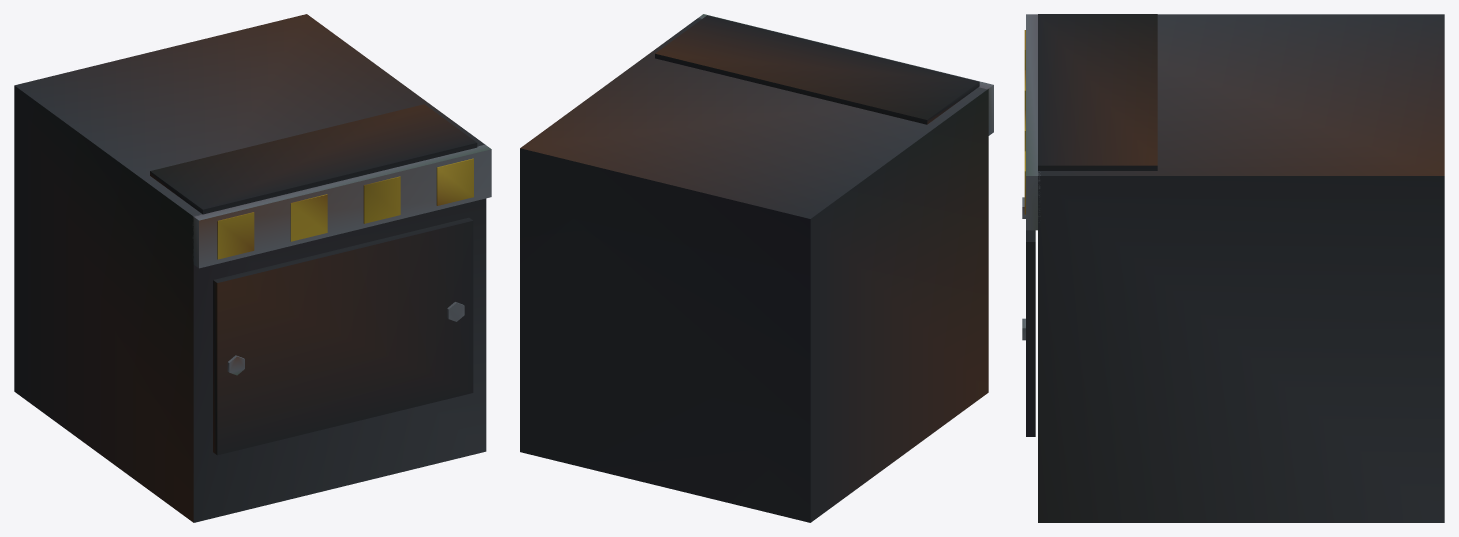
File: tile_floor_hazard.glb
The picture shows the model from 3 angles, left to right: view 1: azimuth 30°, elevation 25°; view 2: azimuth 150°, elevation 25°; view 3: azimuth 270°, elevation 25°; orthographic projection. The views are drawn at different scales.
Parts seen in each view (by area): view 1: tile_floor_hazard; view 2: tile_floor_hazard; view 3: tile_floor_hazard.
Boxes of the visible parts, x1=… form: tile_floor_hazard: x1=14, y1=14, x2=491, y2=522; tile_floor_hazard: x1=520, y1=14, x2=993, y2=522; tile_floor_hazard: x1=1022, y1=14, x2=1444, y2=522.
Size of the model in its own units: 32 by 32.5 by 35.3.
